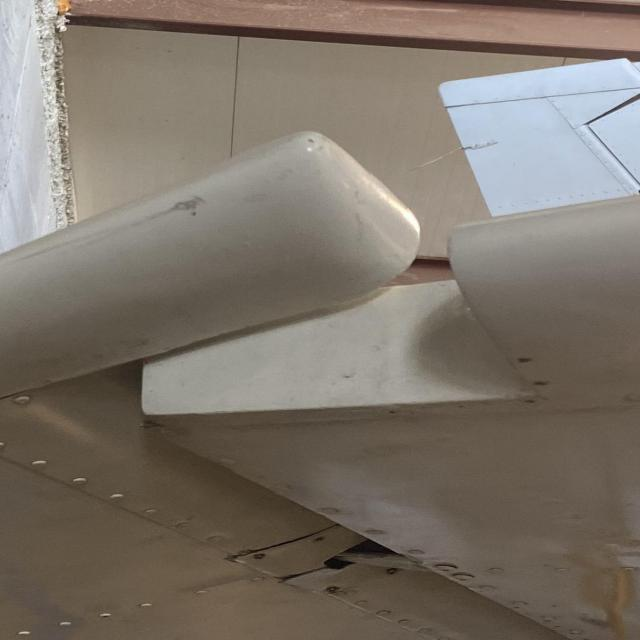Paint-off: (164, 189, 210, 220)
